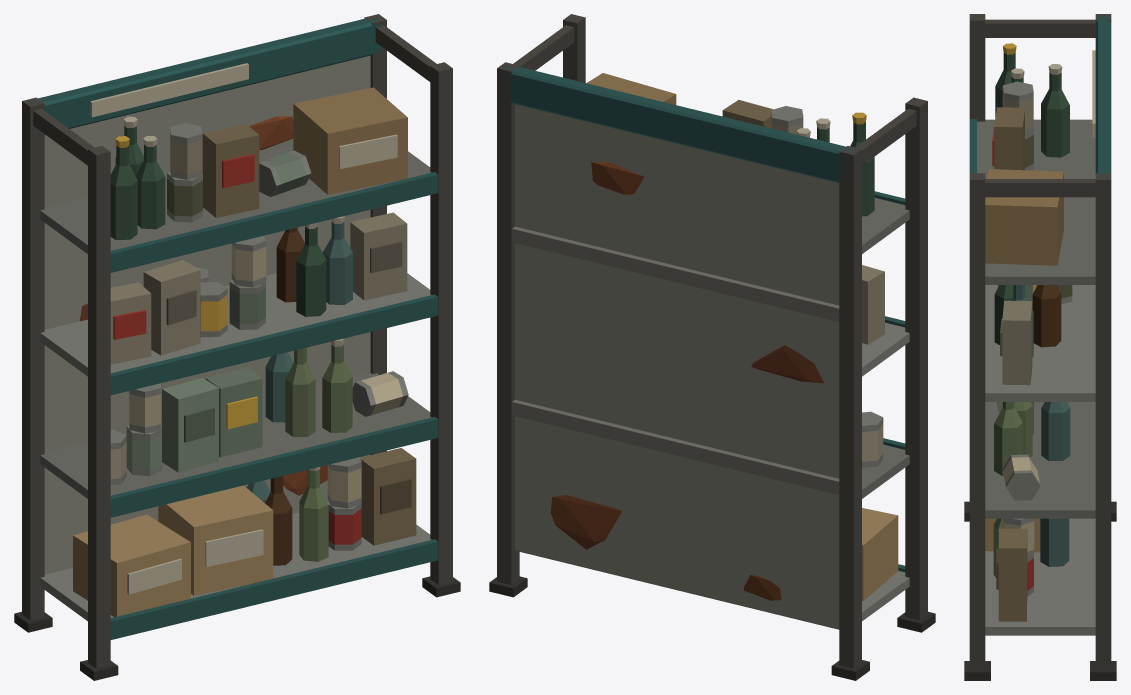
Rendered from prateleira.glb.
3 renders of one model, left to right at view 1: azimuth 30°, elevation 25°; view 2: azimuth 150°, elevation 25°; view 3: azimuth 270°, elevation 25°, orthographic. The views are drawn at different scales.
Visible parts, largest first — view 1: prateleira.001; view 2: prateleira.001; view 3: prateleira.001.
Part boxes in pixels (box(x1,y1,x2,y2)): prateleira.001: box(14, 14, 460, 680); prateleira.001: box(489, 14, 935, 680); prateleira.001: box(964, 14, 1116, 680).
Bounding box in the file's own units: 1.29 × 1.75 × 0.485.
